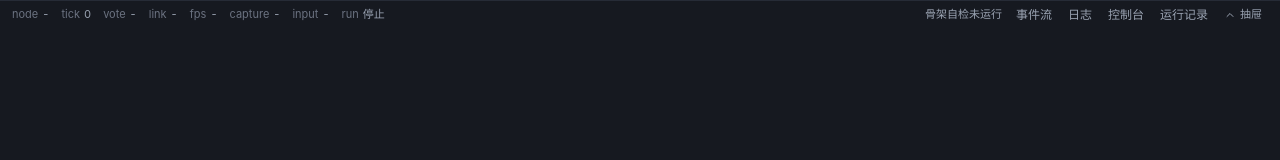
Test case: 底部调试抽屉 › 点「日志」：抽屉展开、切到日志 Tab、面板 expand
The image size is (1280, 160).
Click the button "日志" at (1080, 14), box [1062,4,1098,24]
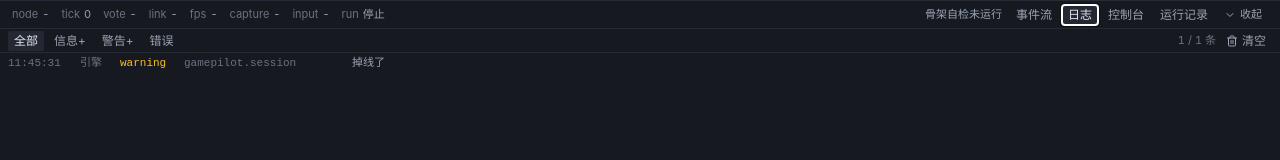
Now the text "掉线了" is shown, box [352,57,385,69]
